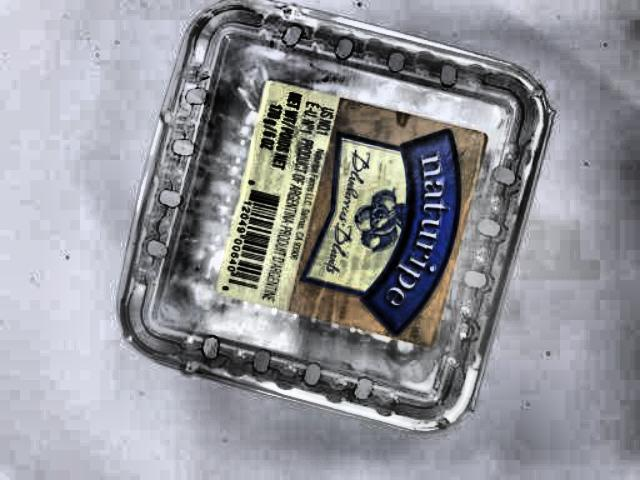Plastic: (87, 14, 554, 436)
